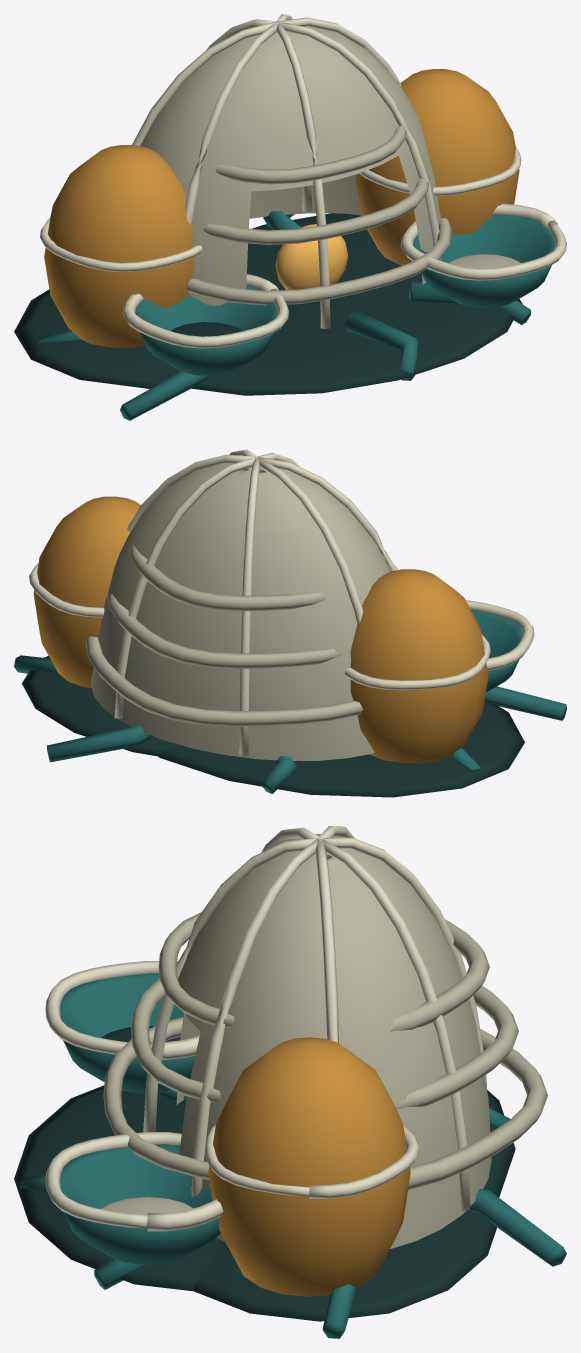
Rendered from building_ceramic_kiln_a.obj.
3 views of the same model, one above another, from view 1: azimuth 30°, elevation 25°; view 2: azimuth 150°, elevation 25°; view 3: azimuth 270°, elevation 25° (orthographic). The views are drawn at different scales.
Parts seen in each view (by area): view 1: inhabited_shell.024, processing_side_sac.006, irregular_anchoring_lobe.095, processing_side_sac.007, irregular_anchoring_lobe.093, open_living_cup.097, open_living_cup.096, insulating_growth_band, insulating_growth_band.001, grown_cup_lip.097, irregular_anchoring_lobe.094, grown_cup_lip.096 (+14 smaller); view 2: inhabited_shell.024, processing_side_sac.006, irregular_anchoring_lobe.093, processing_side_sac.007, insulating_growth_band, irregular_anchoring_lobe.094, insulating_growth_band.001, insulating_growth_band.002, growth_seam.170, growth_seam.169, anchoring_root.218, open_living_cup.096 (+9 smaller); view 3: inhabited_shell.024, processing_side_sac.007, irregular_anchoring_lobe.094, irregular_anchoring_lobe.095, open_living_cup.097, insulating_growth_band, open_living_cup.096, insulating_growth_band.001, insulating_growth_band.002, grown_cup_lip.097, growth_seam.174, growth_seam.169 (+10 smaller).
Part boxes in pixels (<box>): inhabited_shell.024: <box>140,26,441,305</box>; processing_side_sac.006: <box>44,145,194,347</box>; irregular_anchoring_lobe.095: <box>191,284,522,395</box>; processing_side_sac.007: <box>355,69,519,265</box>; irregular_anchoring_lobe.093: <box>14,252,285,388</box>; open_living_cup.097: <box>413,214,555,307</box>; open_living_cup.096: <box>135,285,277,375</box>; insulating_growth_band: <box>186,218,451,305</box>; insulating_growth_band.001: <box>203,174,429,244</box>; grown_cup_lip.097: <box>400,203,566,280</box>; irregular_anchoring_lobe.094: <box>247,213,422,284</box>; grown_cup_lip.096: <box>122,274,288,348</box>; inhabited_shell.024: <box>91,463,390,760</box>; processing_side_sac.006: <box>350,569,488,763</box>; irregular_anchoring_lobe.093: <box>157,701,524,797</box>; processing_side_sac.007: <box>33,496,140,687</box>; insulating_growth_band: <box>85,636,363,726</box>; irregular_anchoring_lobe.094: <box>22,656,179,756</box>; insulating_growth_band.001: <box>107,593,343,668</box>; insulating_growth_band.002: <box>129,545,325,611</box>; growth_seam.170: <box>239,457,260,756</box>; growth_seam.169: <box>114,457,256,719</box>; anchoring_root.218: <box>47,725,152,762</box>; open_living_cup.096: <box>471,610,522,692</box>; inhabited_shell.024: <box>176,834,491,1248</box>; processing_side_sac.007: <box>208,1037,410,1296</box>; irregular_anchoring_lobe.094: <box>193,1210,496,1321</box>; irregular_anchoring_lobe.095: <box>14,1085,221,1291</box>; open_living_cup.097: <box>60,1144,220,1264</box>; insulating_growth_band: <box>103,1016,547,1190</box>; open_living_cup.096: <box>60,973,195,1093</box>; insulating_growth_band.001: <box>131,978,518,1109</box>; insulating_growth_band.002: <box>158,912,489,1031</box>; grown_cup_lip.097: <box>45,1132,223,1231</box>; growth_seam.174: <box>191,838,320,1196</box>; growth_seam.169: <box>318,839,470,1211</box>.
Size of the model in its own units: 3.59 by 2 by 2.73.
